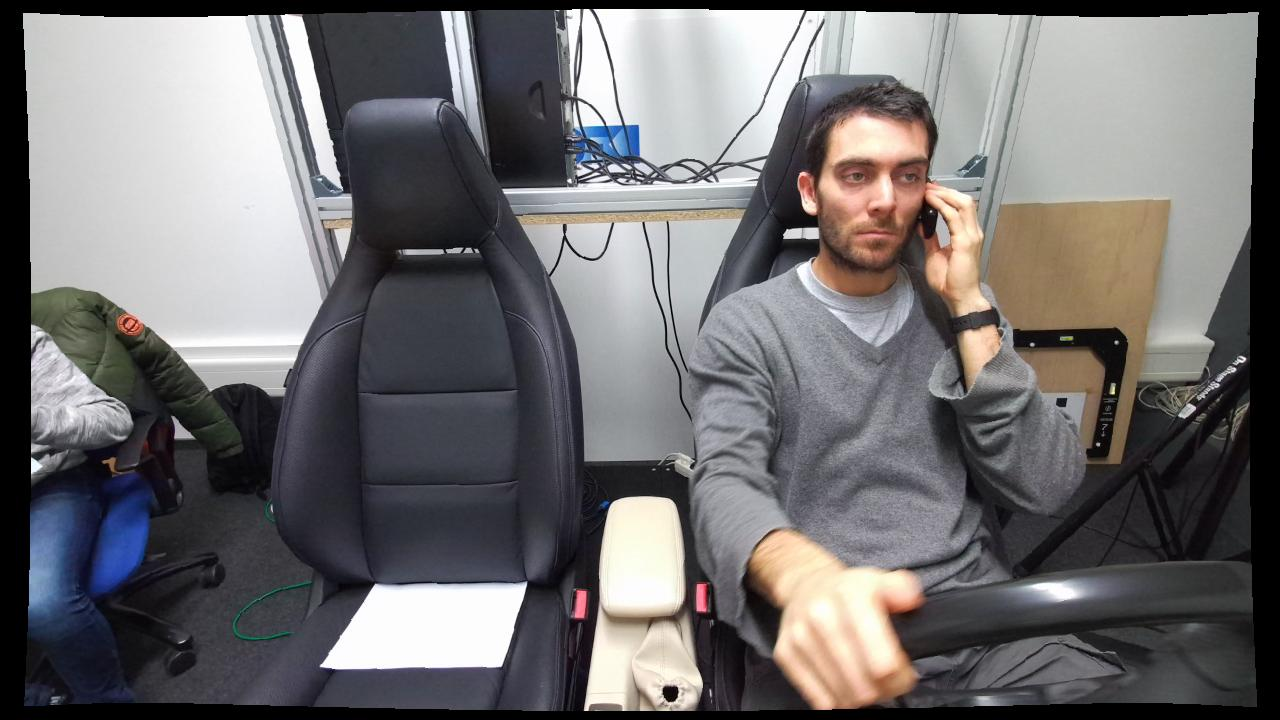PhoneUse: (895, 174, 991, 289)
